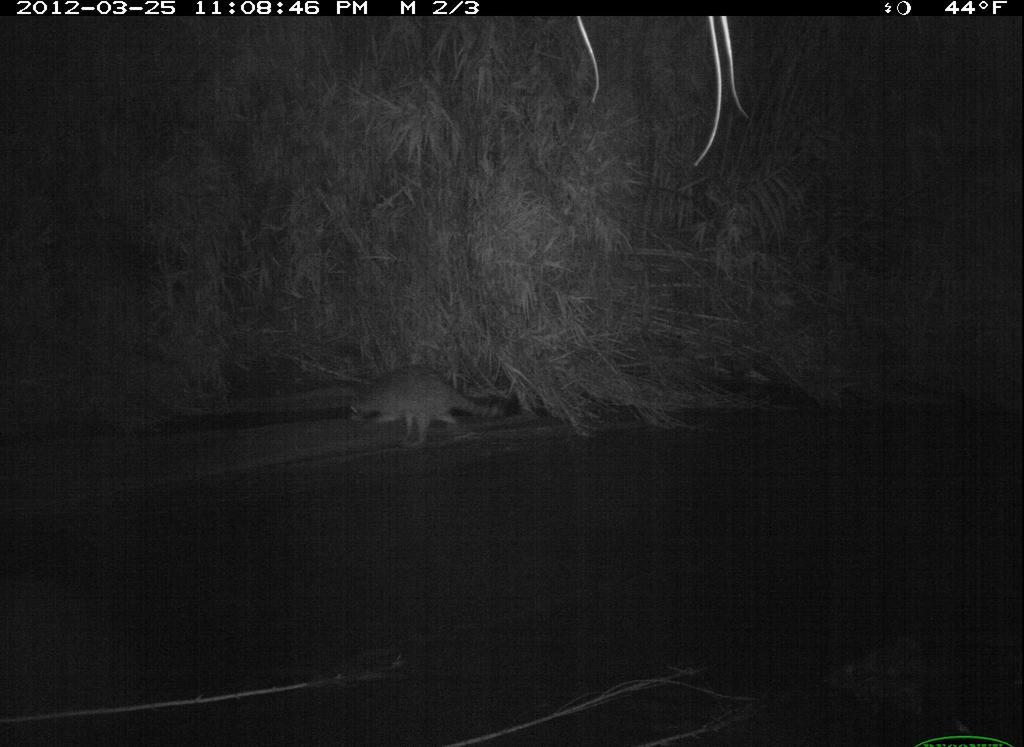raccoon: (341, 359, 514, 454)
